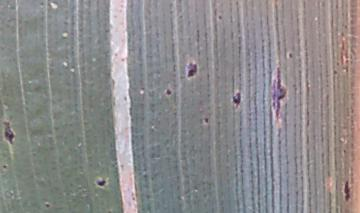tarspot: (268, 65, 290, 118), (183, 58, 202, 81), (2, 118, 16, 148), (342, 179, 353, 203), (94, 174, 110, 190), (231, 89, 242, 106), (164, 85, 176, 98), (43, 197, 51, 212), (286, 51, 297, 60), (201, 116, 212, 125), (216, 13, 224, 22), (1, 163, 10, 170)
